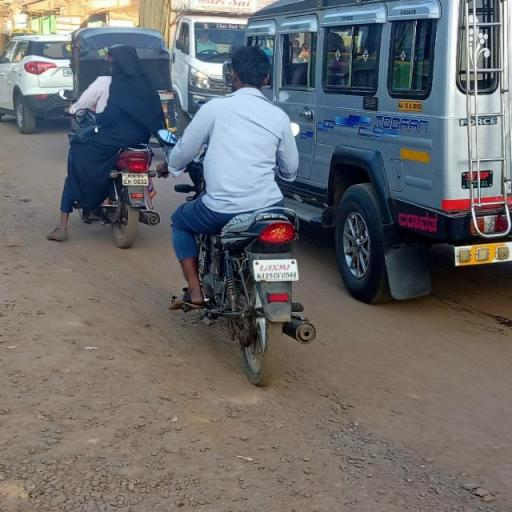bike: (150, 43, 334, 391)
numberplate: (252, 259, 300, 281)
withouthelmet: (232, 46, 270, 88)
